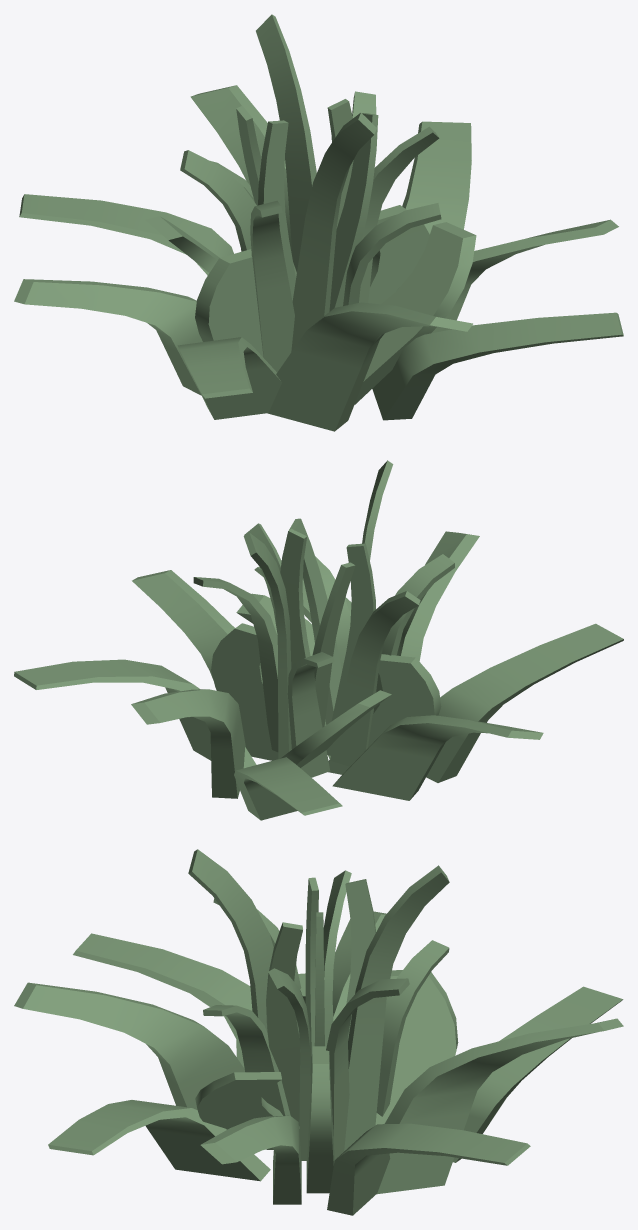
Rendered from Grass_Patch_03.fbx.
The picture shows the model from 3 angles, top to bottom: view 1: azimuth 30°, elevation 25°; view 2: azimuth 150°, elevation 25°; view 3: azimuth 270°, elevation 25°; orthographic projection. The views are drawn at different scales.
Parts seen in each view (by area): view 1: Grass_Patch_03; view 2: Grass_Patch_03; view 3: Grass_Patch_03.
Part boxes in pixels (x1,y1,x2,y2): Grass_Patch_03: (14,14,623,431); Grass_Patch_03: (14,460,623,820); Grass_Patch_03: (14,849,623,1215).
Bounding box in the file's own units: 17.45 × 9.67 × 17.72.
